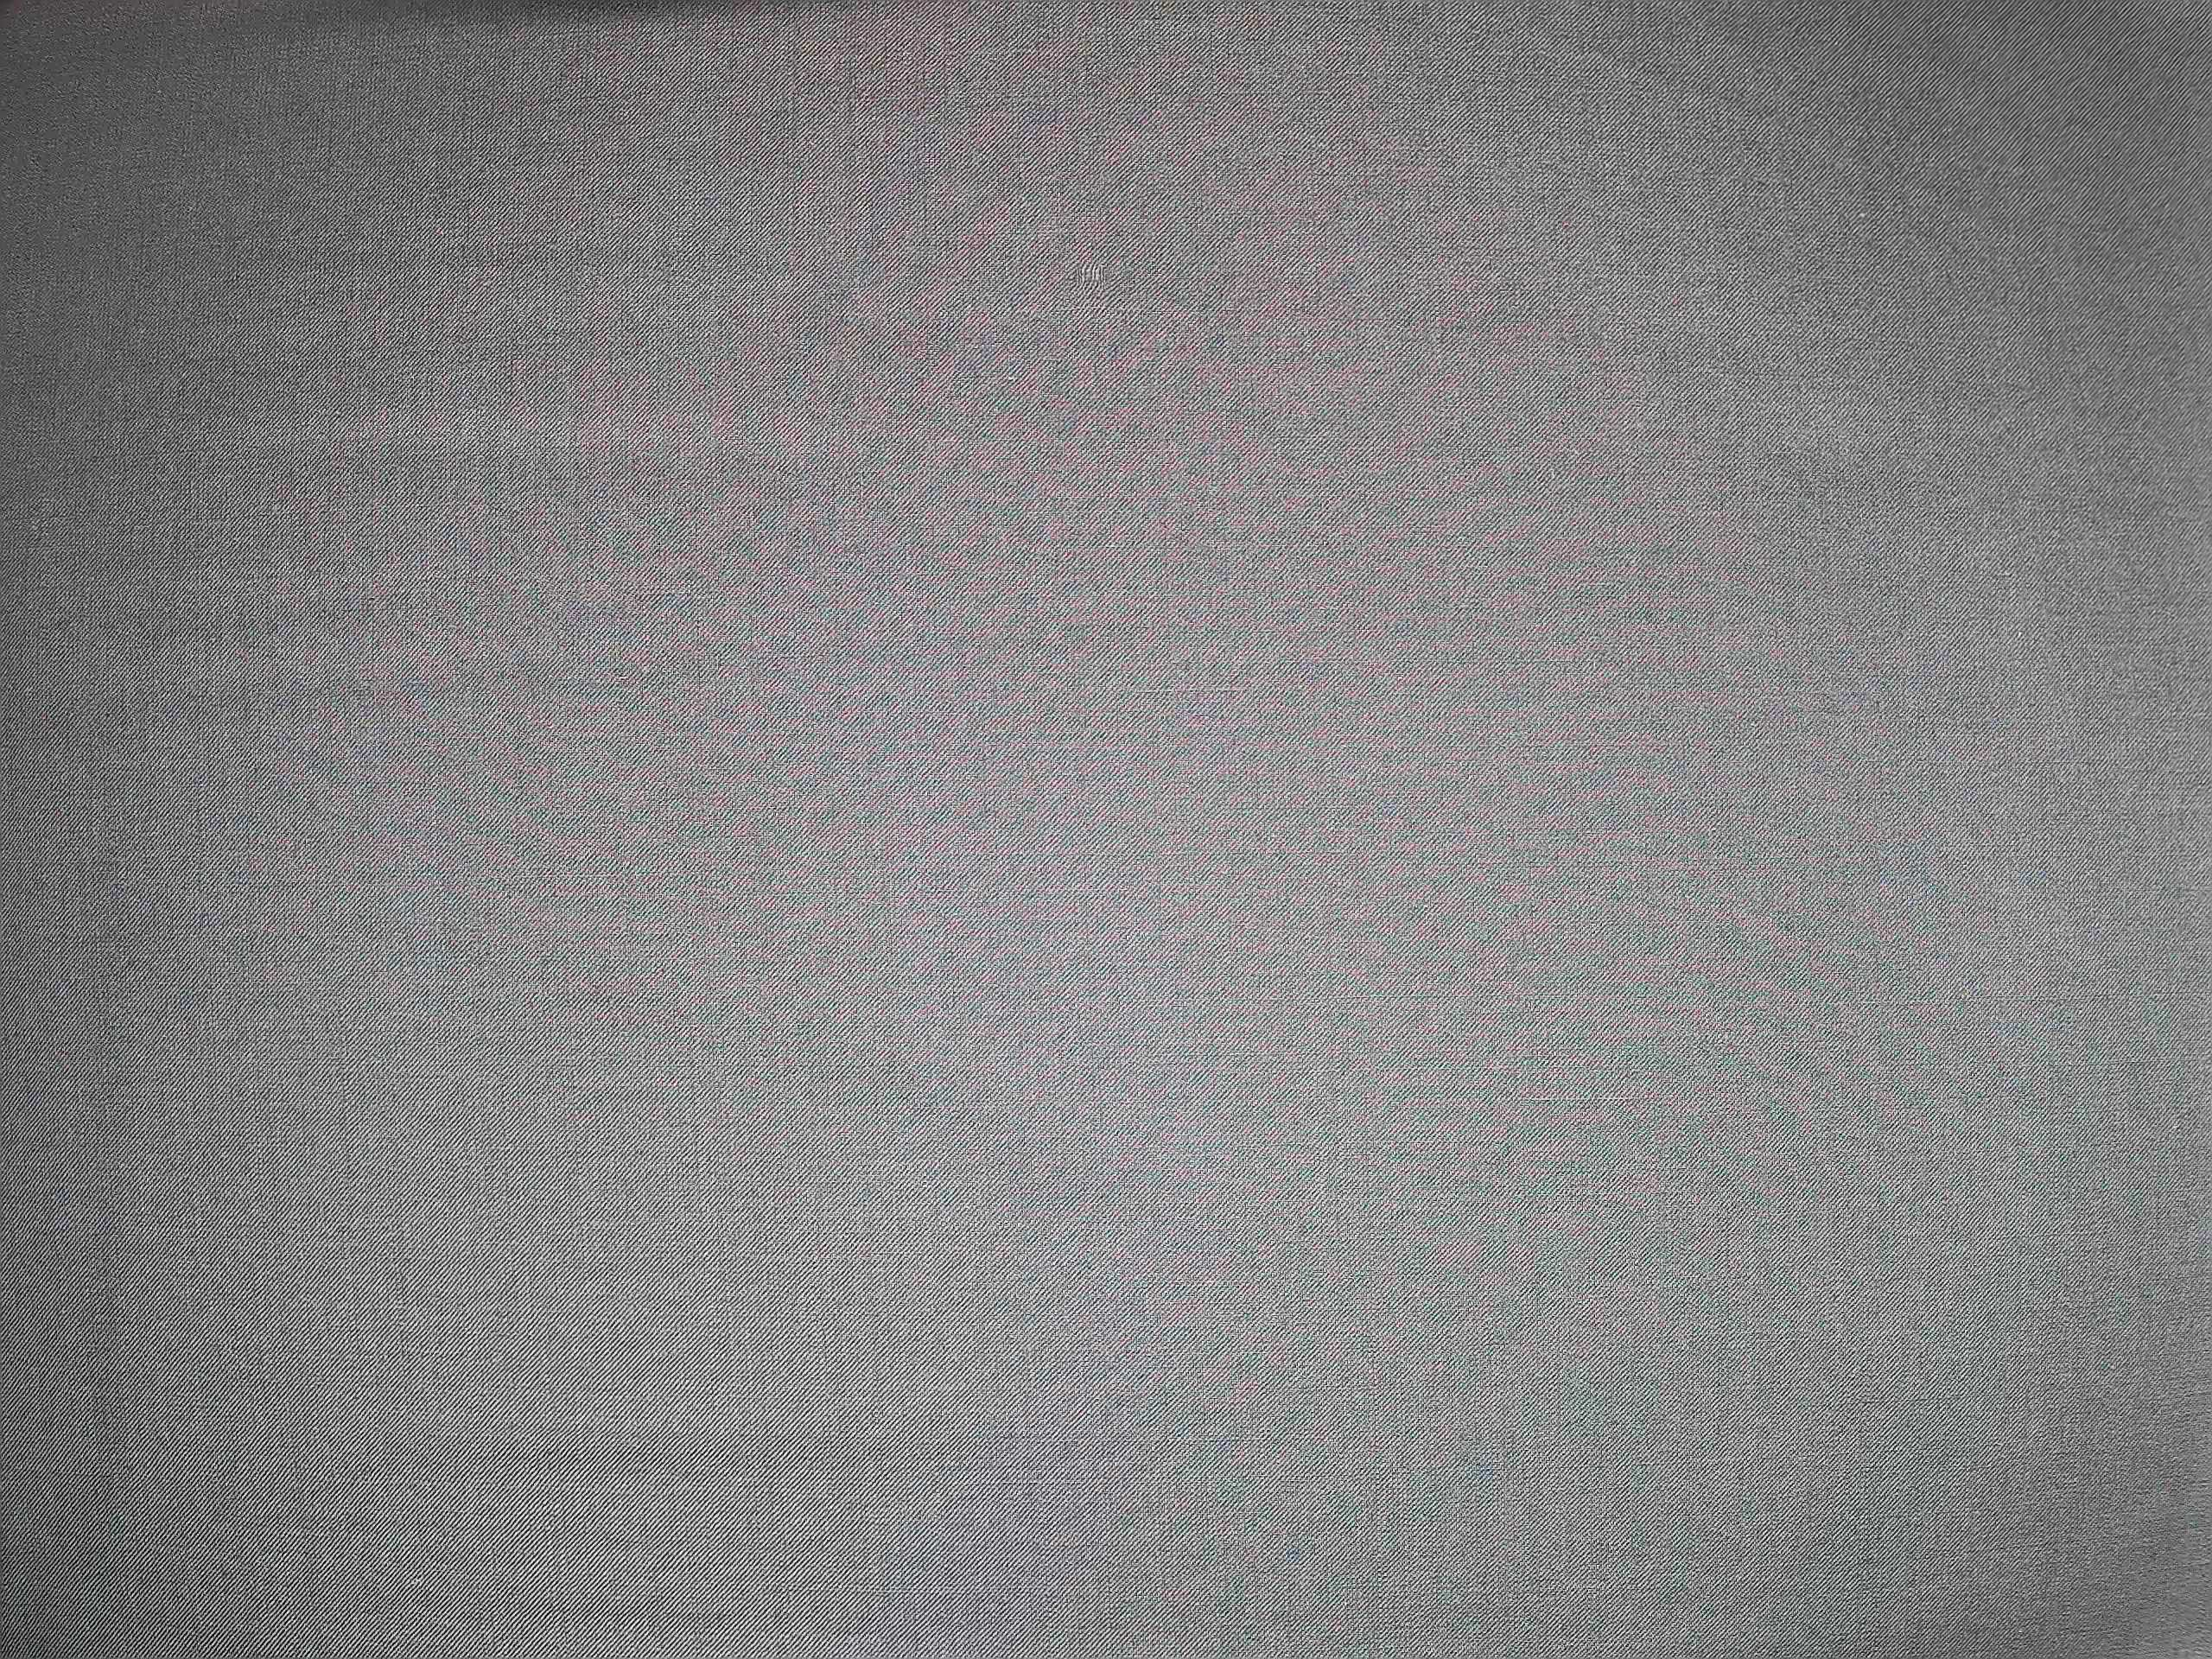jumps: (1061, 251, 1116, 296)
